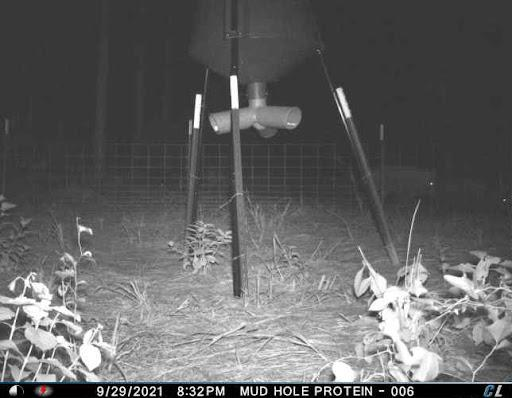Hog: (361, 161, 442, 209), (440, 171, 512, 215)
